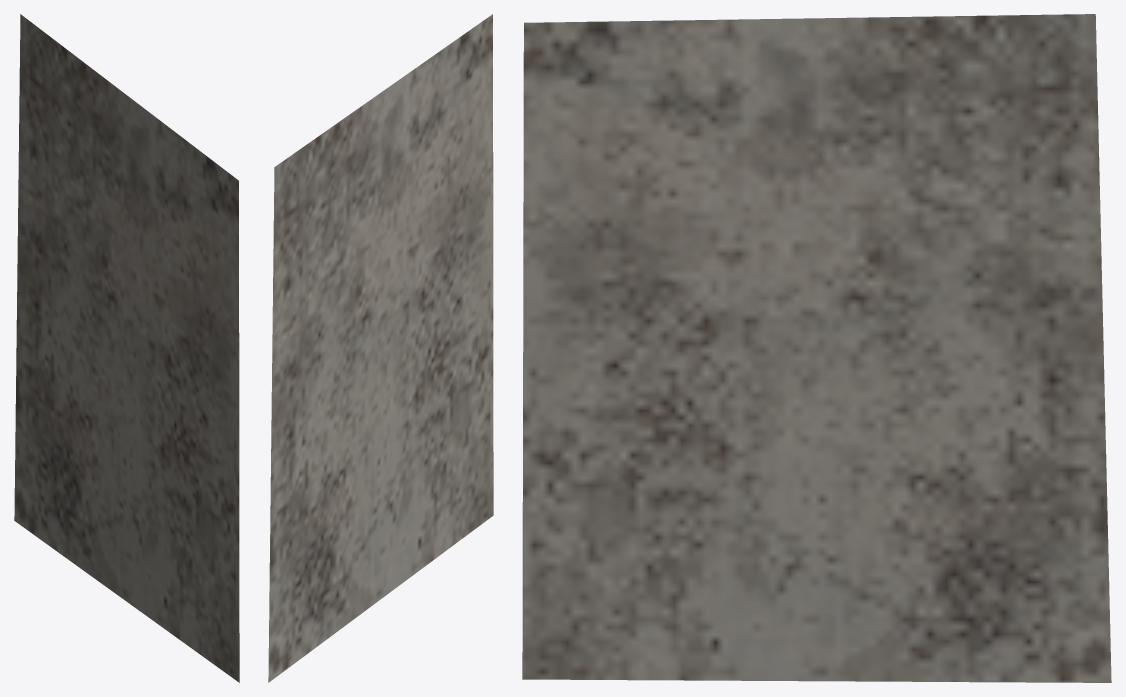
The model's file is SM_Sticker_11.fbx.
The picture shows the model from 3 angles, left to right: view 1: azimuth 30°, elevation 25°; view 2: azimuth 150°, elevation 25°; view 3: azimuth 270°, elevation 25°; orthographic projection. The views are drawn at different scales.
Visible parts, largest first — view 1: SM_Sticker_11_LOD0; view 2: SM_Sticker_11_LOD0; view 3: SM_Sticker_11_LOD0.
Boxes of the visible parts, box(x1,y1,x2,y2) form: SM_Sticker_11_LOD0: box(14, 14, 239, 682); SM_Sticker_11_LOD0: box(268, 14, 493, 682); SM_Sticker_11_LOD0: box(522, 14, 1111, 682).
Size of the model in its own units: 4.56e-06 by 14.29 by 17.9.
